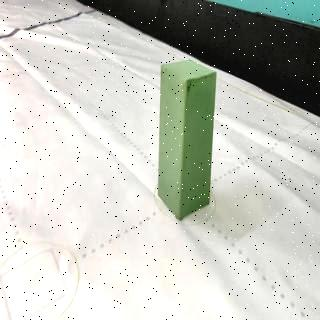greenbox: (156, 57, 218, 221)
